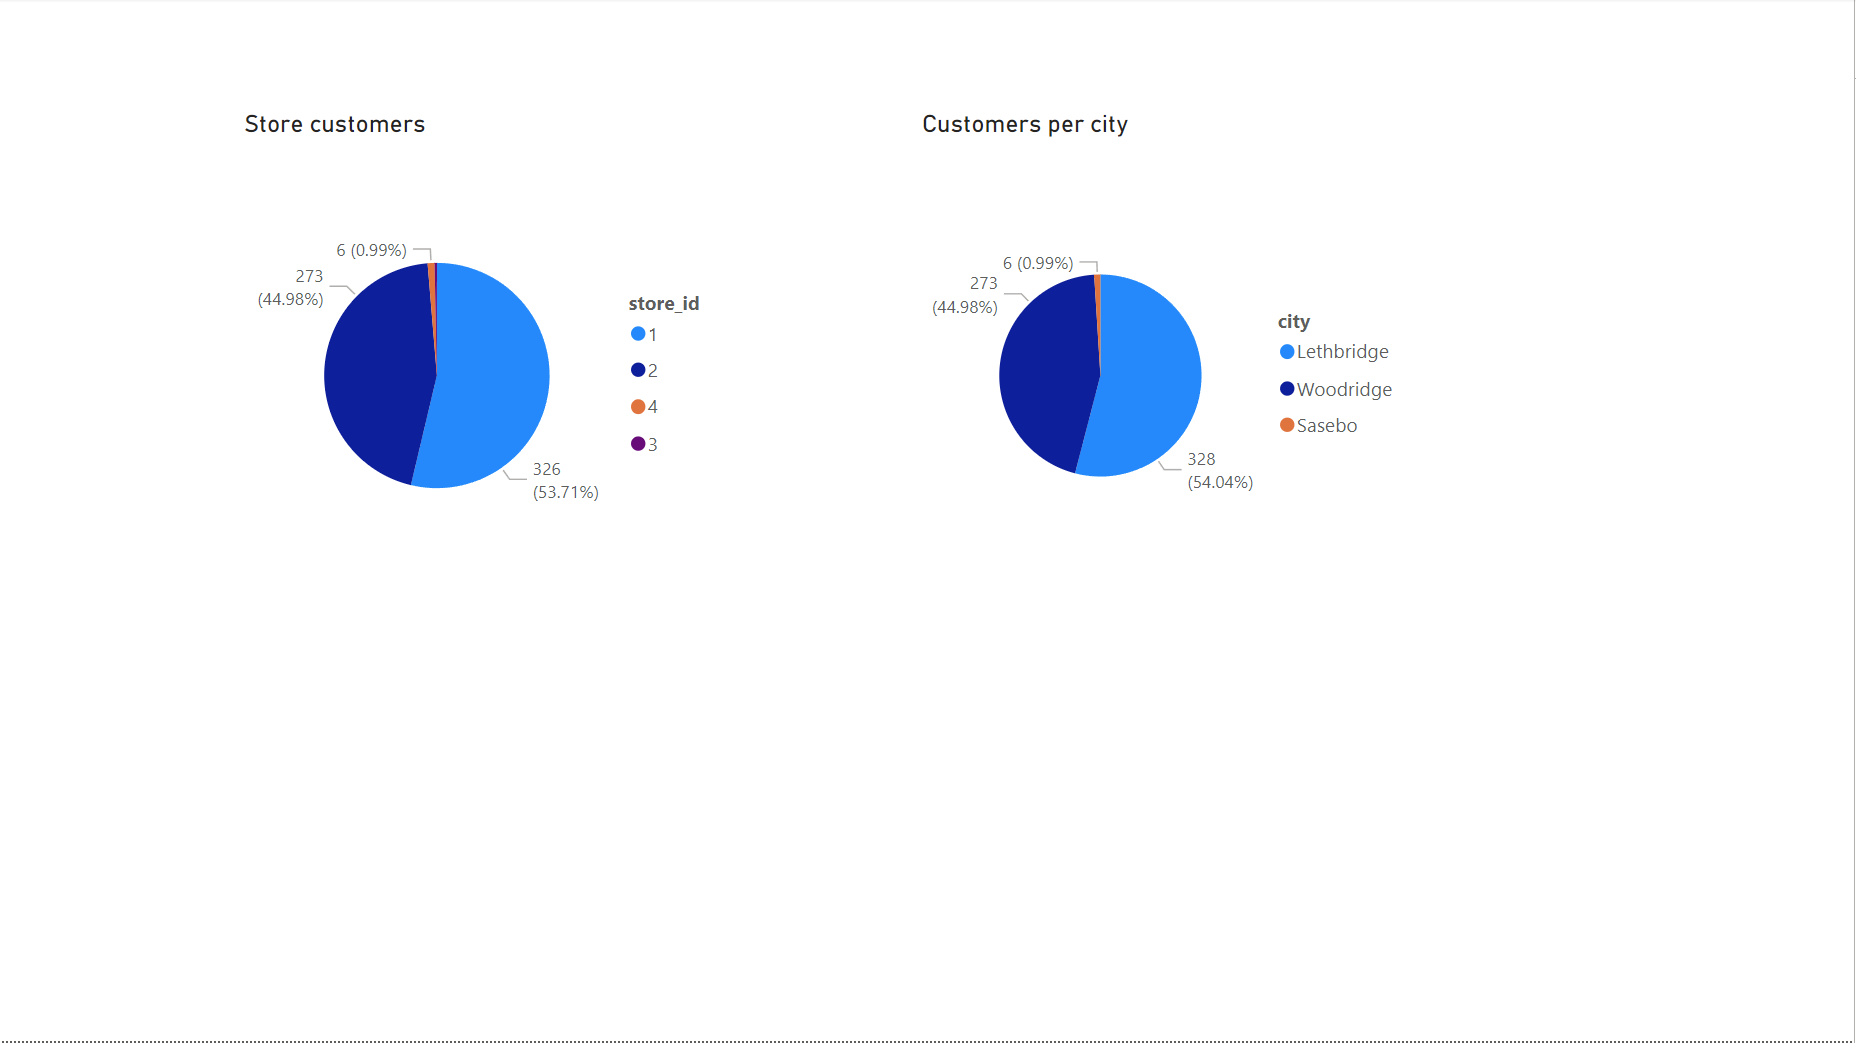

What the dashboard file says about the page in this screenshot:
{"tool":"powerbi","page":{"name":"Page 1","canvas":[1280,720],"ordinal":0},"visuals":[{"type":"pieChart","title":"Store customers","fields":{"Y":["Sum(FactCustomersPerStore.numberOfCustomers)"],"Category":["FactCustomersPerStore.store_id"]},"box":[163.6,76.6,344.5,348.7],"z":0},{"type":"pieChart","title":"Customers per city","fields":{"Y":["Sum(FactCustomersPerStore.numberOfCustomers)"],"Category":["FactCustomersPerStore.city"]},"box":[631.7,76.6,344.5,348.7],"z":1}]}

Visuals, with their boxes in screenshot pixels (x1, y1, x2, y2), scaled from the page's 1280x720 canvas onto the 1856x1043 screenshot:
"Store customers" pieChart: (left=237, top=111, right=737, bottom=616)
"Customers per city" pieChart: (left=916, top=111, right=1415, bottom=616)
